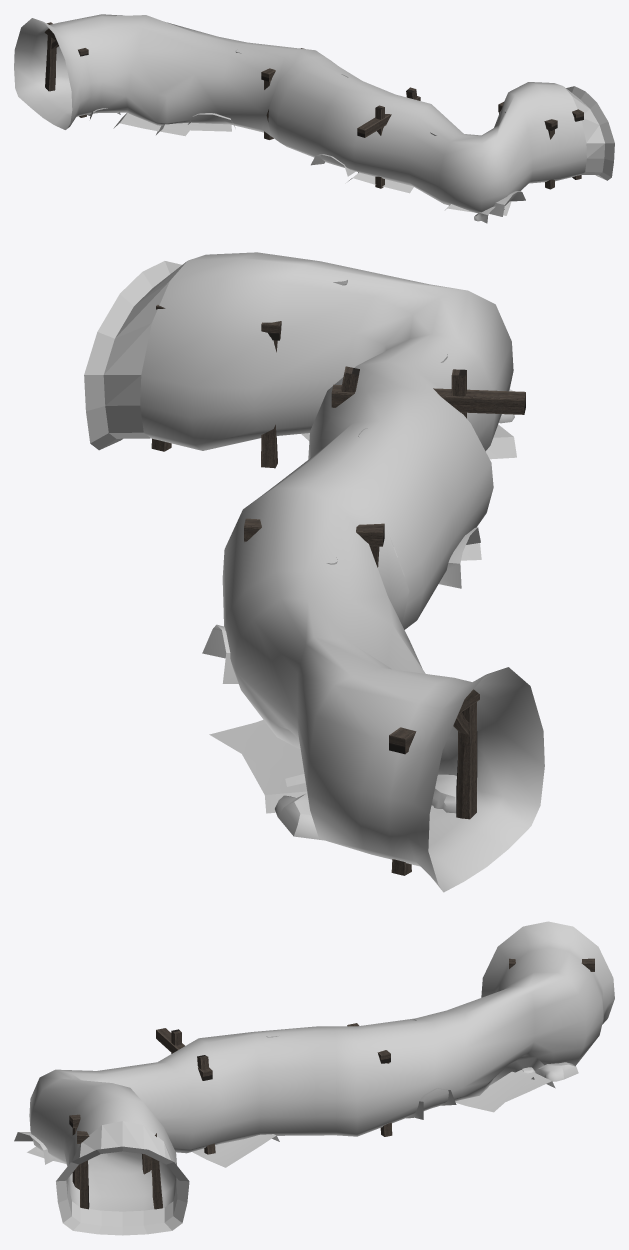
The model's file is rocky_tunnel_1.dae.
3 views of the same model, one above another, from view 1: azimuth 30°, elevation 25°; view 2: azimuth 150°, elevation 25°; view 3: azimuth 270°, elevation 25° (orthographic). The views are drawn at different scales.
Parts seen in each view (by area): view 1: RockyMineshaft; view 2: RockyMineshaft; view 3: RockyMineshaft.
Part boxes in pixels (left/top/right/bottom): RockyMineshaft: left=14, top=14, right=614, bottom=223; RockyMineshaft: left=84, top=252, right=544, bottom=892; RockyMineshaft: left=14, top=921, right=614, bottom=1235.
Bounding box in the file's own units: 1117 × 1410 × 294.
